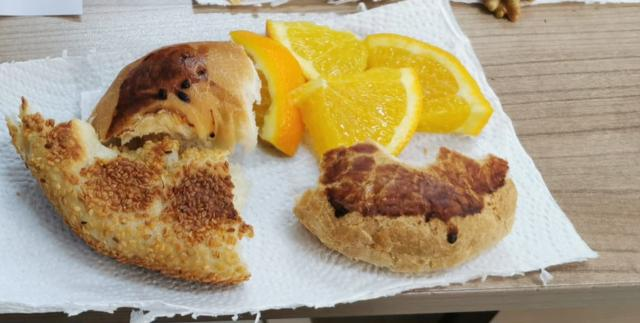Organik: (91, 20, 502, 162), (2, 91, 261, 291), (288, 139, 528, 287)
